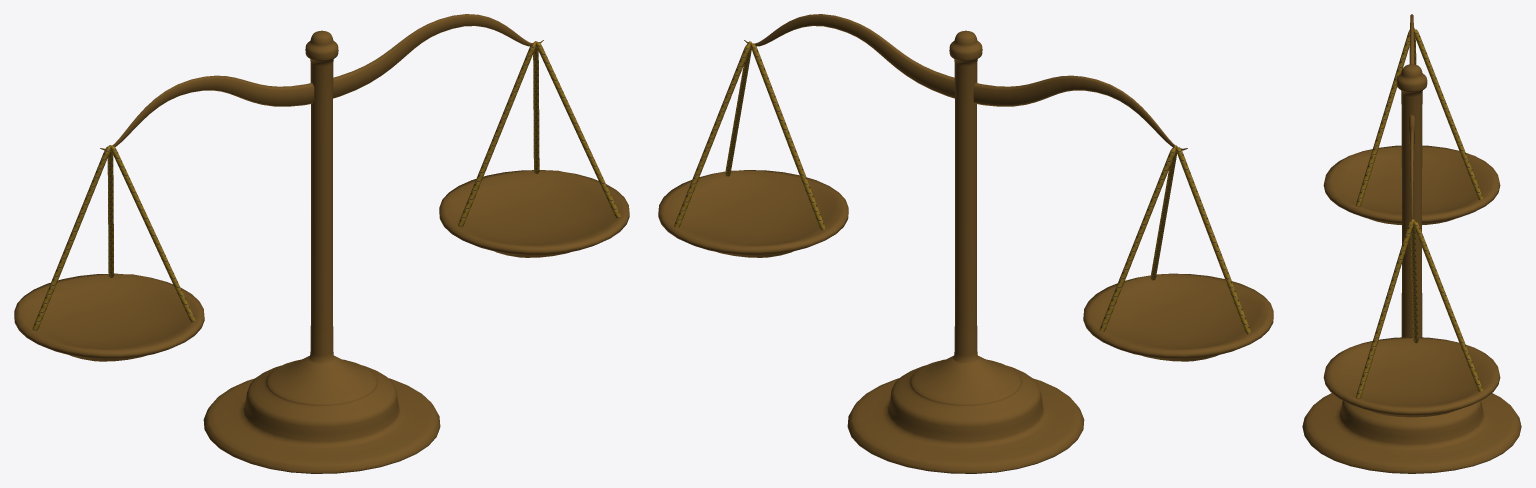
The model's file is ScaleBase.fbx.
The picture shows the model from 3 angles, left to right: view 1: azimuth 30°, elevation 25°; view 2: azimuth 150°, elevation 25°; view 3: azimuth 270°, elevation 25°; orthographic projection. The views are drawn at different scales.
Parts seen in each view (by area): view 1: ScaleBase, Circle.007, BezierCurve, Cube.014, Cube.017, Cube.013, Cube.016, Cube.012, Cube.015; view 2: ScaleBase, Circle.007, BezierCurve, Cube.012, Cube.014, Cube.017, Cube.015, Cube.013, Cube.016; view 3: Circle.007, ScaleBase, Cube.013, Cube.012, Cube.015, Cube.016, Cube.014, BezierCurve.
Boxes of the visible parts, <box> form: ScaleBase: <box>203,30,440,473</box>; Circle.007: <box>14,170,629,361</box>; BezierCurve: <box>100,14,543,150</box>; Cube.014: <box>458,42,535,227</box>; Cube.017: <box>32,146,110,330</box>; Cube.013: <box>536,41,620,218</box>; Cube.016: <box>111,145,195,322</box>; Cube.012: <box>533,41,539,173</box>; Cube.015: <box>107,145,114,277</box>; ScaleBase: <box>847,30,1084,473</box>; Circle.007: <box>658,170,1273,361</box>; BezierCurve: <box>744,14,1187,150</box>; Cube.012: <box>674,44,750,227</box>; Cube.014: <box>751,43,825,230</box>; Cube.017: <box>1176,147,1250,334</box>; Cube.015: <box>1099,148,1175,331</box>; Cube.013: <box>725,41,751,176</box>; Cube.016: <box>1150,145,1177,280</box>; Circle.007: <box>1323,145,1500,417</box>; ScaleBase: <box>1302,64,1521,473</box>; Cube.013: <box>1355,220,1413,398</box>; Cube.012: <box>1413,221,1483,391</box>; Cube.015: <box>1414,29,1483,199</box>; Cube.016: <box>1356,29,1409,206</box>; Cube.014: <box>1410,219,1418,343</box>; BezierCurve: <box>1409,14,1414,223</box>.
Size of the model in its own units: 61.78 by 39.23 by 21.48.
